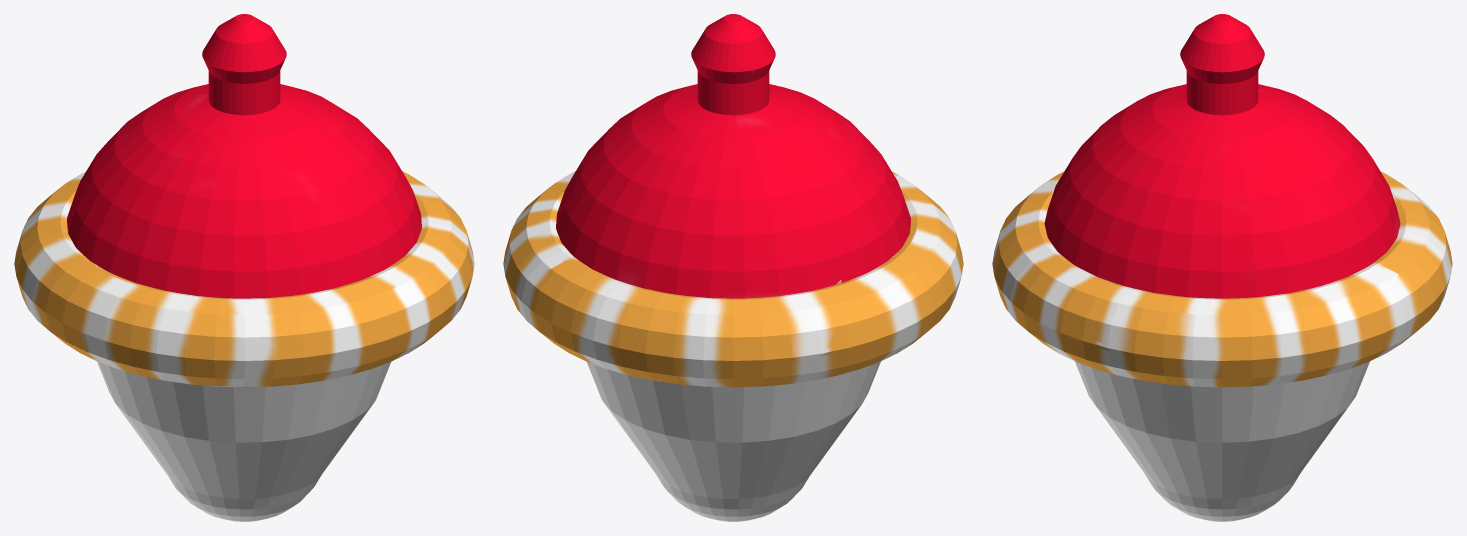
The model's file is buiok.fbx.
The picture shows the model from 3 angles, left to right: view 1: azimuth 30°, elevation 25°; view 2: azimuth 150°, elevation 25°; view 3: azimuth 270°, elevation 25°; orthographic projection.
Parts seen in each view (by area): view 1: Sphere, Torus; view 2: Sphere, Torus; view 3: Sphere, Torus.
Boxes of the visible parts, x1,y1,x2,y2 form: Sphere: (67, 14, 421, 521); Torus: (14, 171, 474, 387); Sphere: (556, 14, 910, 521); Torus: (503, 171, 963, 387); Sphere: (1044, 14, 1400, 521); Torus: (992, 171, 1452, 387).
Size of the model in its own units: 250 by 298 by 250.
Materials: 2 (2 with a texture image).
